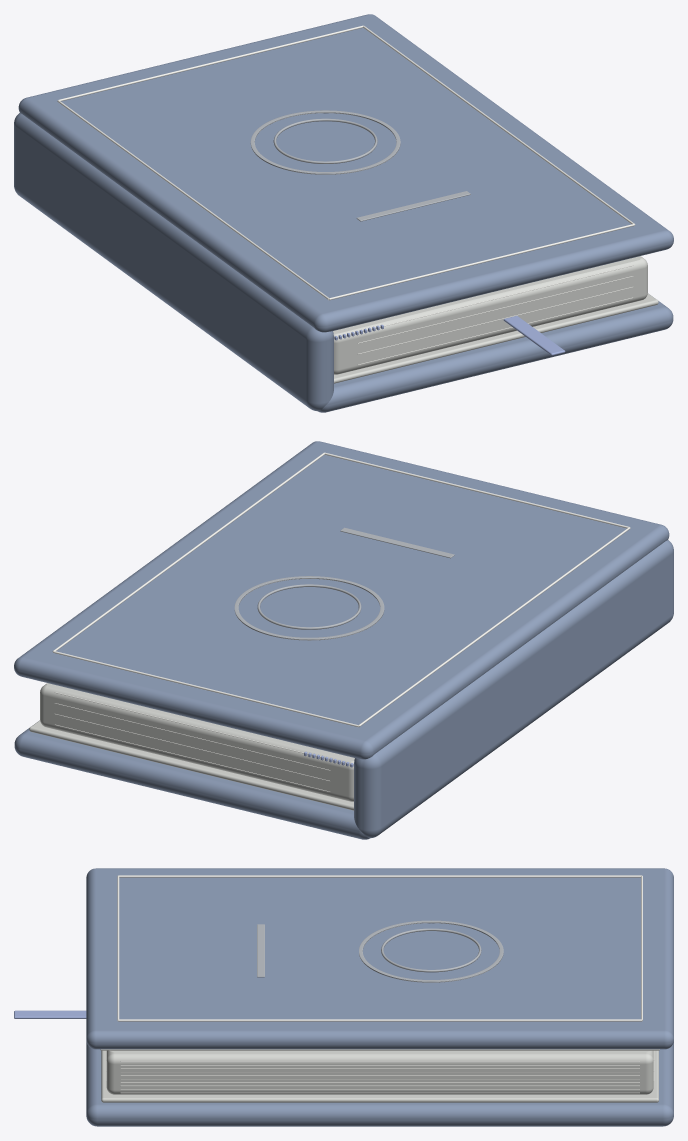
The model's file is passport-wallet.glb.
3 renders of one model, top to bottom at view 1: azimuth 30°, elevation 25°; view 2: azimuth 150°, elevation 25°; view 3: azimuth 270°, elevation 25°, orthographic. The views are drawn at different scales.
Parts seen in each view (by area): view 1: hinged-leather-front-cover, cloth-wrapped-flexible-spine, bound-lower-page-block, soft-rounded-bound-back-cover, pastedown-endpaper, machined-annular-ring, attached-right-reading-page, front-cover-232, front-cover-233, front-cover-231, front-cover-230, bound-satin-bookmark (+2 smaller); view 2: hinged-leather-front-cover, cloth-wrapped-flexible-spine, bound-lower-page-block, soft-rounded-bound-back-cover, pastedown-endpaper, machined-annular-ring, attached-right-reading-page, front-cover-232, front-cover-233, front-cover-230, front-cover-231, front-cover-229 (+1 smaller); view 3: hinged-leather-front-cover, bound-lower-page-block, soft-rounded-bound-back-cover, fine-fore-edge-page-line (×10), pastedown-endpaper, attached-right-reading-page, front-cover-233, front-cover-232, machined-annular-ring, inside-front-cover-endpaper, front-cover-229, bound-satin-bookmark (+2 smaller).
Part boxes in pixels (left/top/right/bottom): hinged-leather-front-cover: left=18, top=14, right=673, bottom=332; cloth-wrapped-flexible-spine: left=14, top=113, right=333, bottom=411; bound-lower-page-block: left=333, top=256, right=647, bottom=374; soft-rounded-bound-back-cover: left=318, top=301, right=673, bottom=412; pastedown-endpaper: left=334, top=293, right=658, bottom=383; machined-annular-ring: left=250, top=110, right=400, bottom=174; attached-right-reading-page: left=333, top=256, right=640, bottom=333; front-cover-232: left=57, top=100, right=329, bottom=300; front-cover-233: left=363, top=25, right=635, bottom=224; front-cover-231: left=329, top=224, right=634, bottom=300; front-cover-230: left=59, top=25, right=363, bottom=101; bound-satin-bookmark: left=503, top=316, right=565, bottom=355; hinged-leather-front-cover: left=14, top=441, right=669, bottom=759; cloth-wrapped-flexible-spine: left=354, top=540, right=673, bottom=838; bound-lower-page-block: left=40, top=683, right=354, bottom=801; soft-rounded-bound-back-cover: left=14, top=728, right=369, bottom=839; pastedown-endpaper: left=29, top=720, right=353, bottom=810; machined-annular-ring: left=234, top=576, right=384, bottom=640; attached-right-reading-page: left=47, top=683, right=354, bottom=760; front-cover-232: left=358, top=527, right=630, bottom=727; front-cover-233: left=52, top=452, right=324, bottom=651; front-cover-230: left=53, top=651, right=358, bottom=727; front-cover-231: left=324, top=452, right=628, bottom=528; front-cover-229: left=257, top=584, right=361, bottom=629; hinged-leather-front-cover: left=86, top=868, right=673, bottom=1049; bound-lower-page-block: left=106, top=1050, right=653, bottom=1094; soft-rounded-bound-back-cover: left=86, top=1041, right=673, bottom=1126; fine-fore-edge-page-line (×10): left=120, top=1061, right=639, bottom=1093; pastedown-endpaper: left=101, top=1050, right=658, bottom=1102; attached-right-reading-page: left=109, top=1050, right=650, bottom=1052; front-cover-233: left=118, top=1019, right=641, bottom=1021; front-cover-232: left=118, top=875, right=641, bottom=877; machined-annular-ring: left=359, top=920, right=503, bottom=982; inside-front-cover-endpaper: left=100, top=1049, right=659, bottom=1050; front-cover-229: left=381, top=928, right=481, bottom=972; bound-satin-bookmark: left=14, top=1010, right=86, bottom=1018.
Size of the model in its own units: 1.23 by 0.331 by 2.
